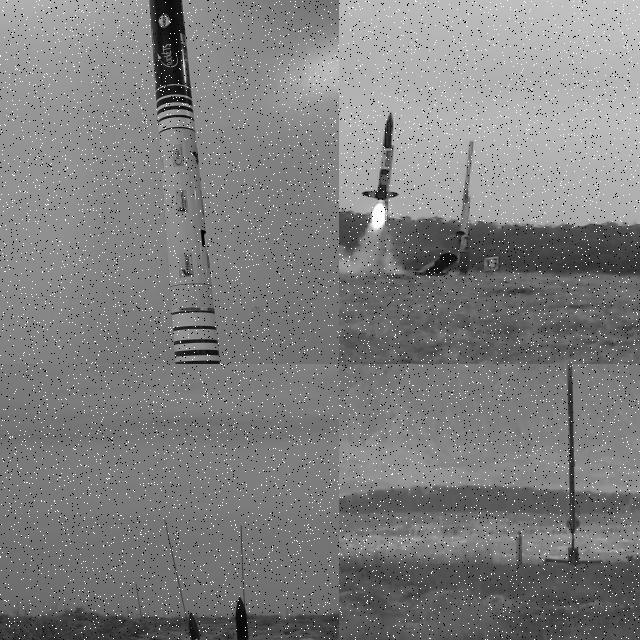Rocket: (149, 0, 220, 364), (360, 111, 400, 201), (560, 364, 580, 537), (228, 596, 266, 640), (186, 612, 222, 640)
